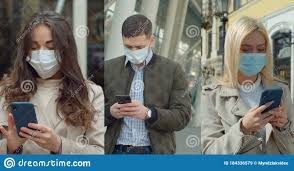with-mask: (18, 13, 72, 85), (225, 18, 273, 83), (113, 14, 157, 69)
